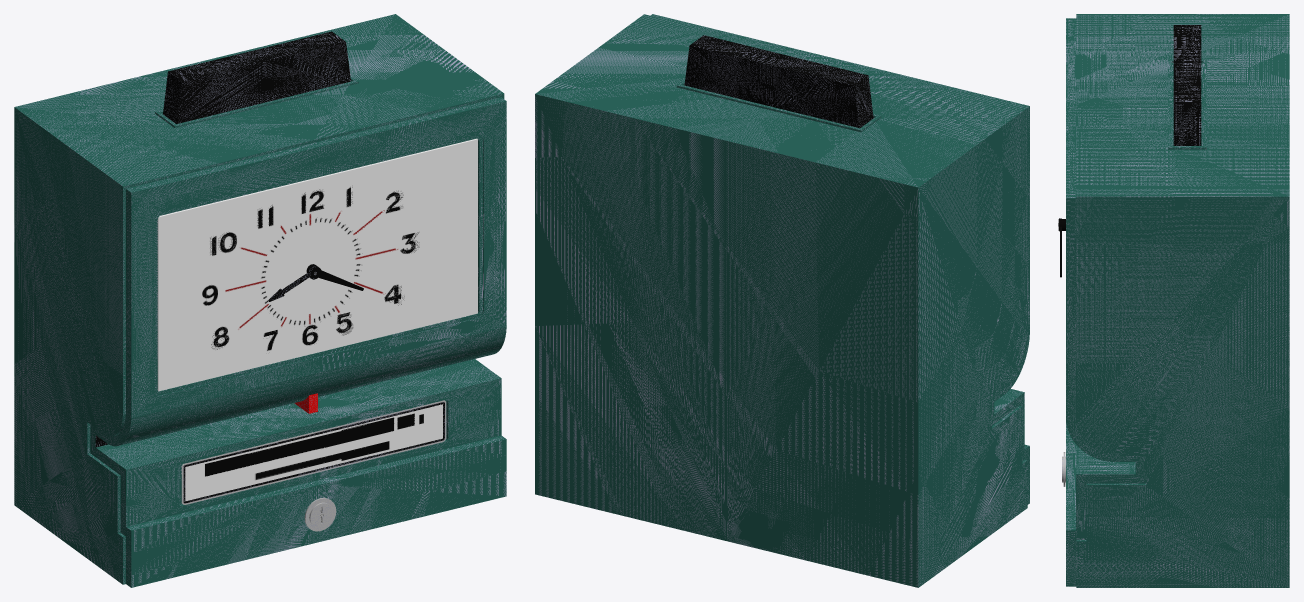
The model's file is punchClock.dae.
The picture shows the model from 3 angles, left to right: view 1: azimuth 30°, elevation 25°; view 2: azimuth 150°, elevation 25°; view 3: azimuth 270°, elevation 25°; orthographic projection. The views are drawn at different scales.
Visible parts, largest first — view 1: Clock_Body (×2), Clockface (×2), Label (×3), Component_5 (×2); view 2: Clock_Body (×2), Component_5 (×2); view 3: Clock_Body (×2), Component_5 (×4).
Boxes of the visible parts, bbox=[...] form: Clock_Body (×2): bbox=[14, 14, 506, 587]; Clockface (×2): bbox=[157, 138, 477, 391]; Label (×3): bbox=[182, 400, 446, 504]; Component_5 (×2): bbox=[163, 31, 350, 123]; Clock_Body (×2): bbox=[535, 14, 1029, 587]; Component_5 (×2): bbox=[684, 35, 873, 128]; Clock_Body (×2): bbox=[1066, 14, 1289, 587]; Component_5 (×4): bbox=[1168, 25, 1206, 149].
Bounding box in the file's own units: 24.27 × 12.98 × 26.77.
